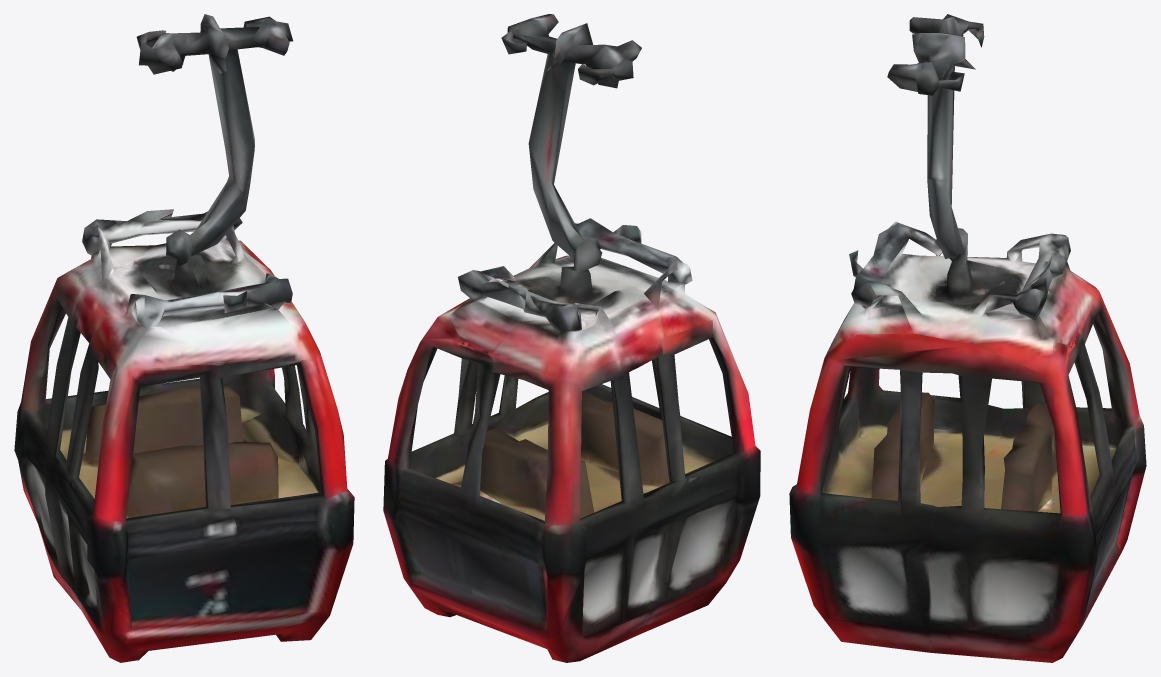
File: dio_gondola_red.glb
3 views of the same model, side by side, from view 1: azimuth 30°, elevation 25°; view 2: azimuth 150°, elevation 25°; view 3: azimuth 270°, elevation 25° (orthographic). The views are drawn at different scales.
Parts seen in each view (by area): view 1: tripo_part_3; view 2: tripo_part_3; view 3: tripo_part_3.
Boxes of the visible parts, x1,y1,x2,y2 form: tripo_part_3: [14, 14, 354, 662]; tripo_part_3: [383, 14, 760, 662]; tripo_part_3: [789, 14, 1146, 662].
Bounding box in the file's own units: 0.0993 × 0.1988 × 0.1092.
Materials: 1 (1 with a texture image).
